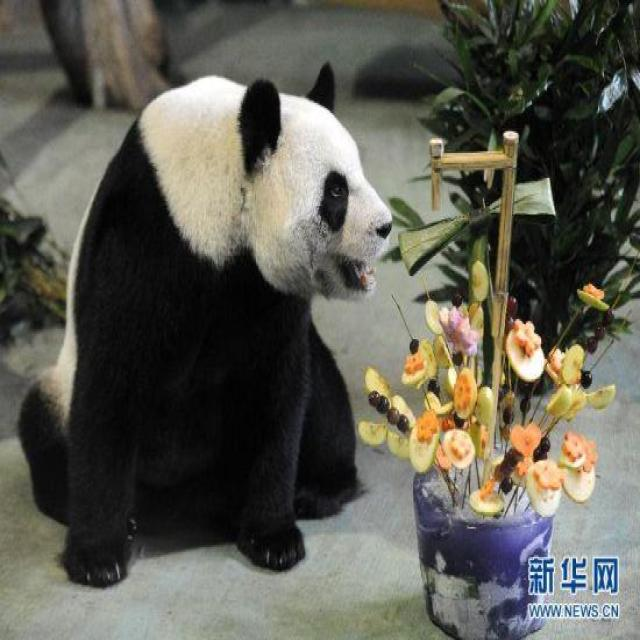panda: (16, 62, 397, 590)
